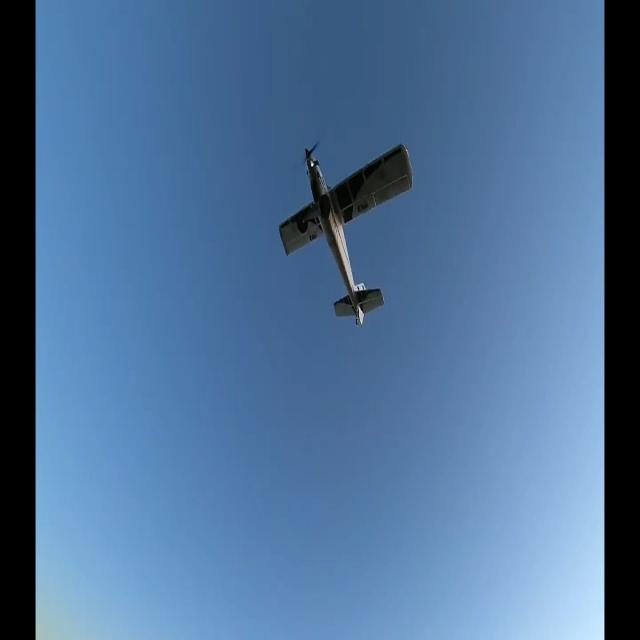iha: (281, 134, 411, 328)
